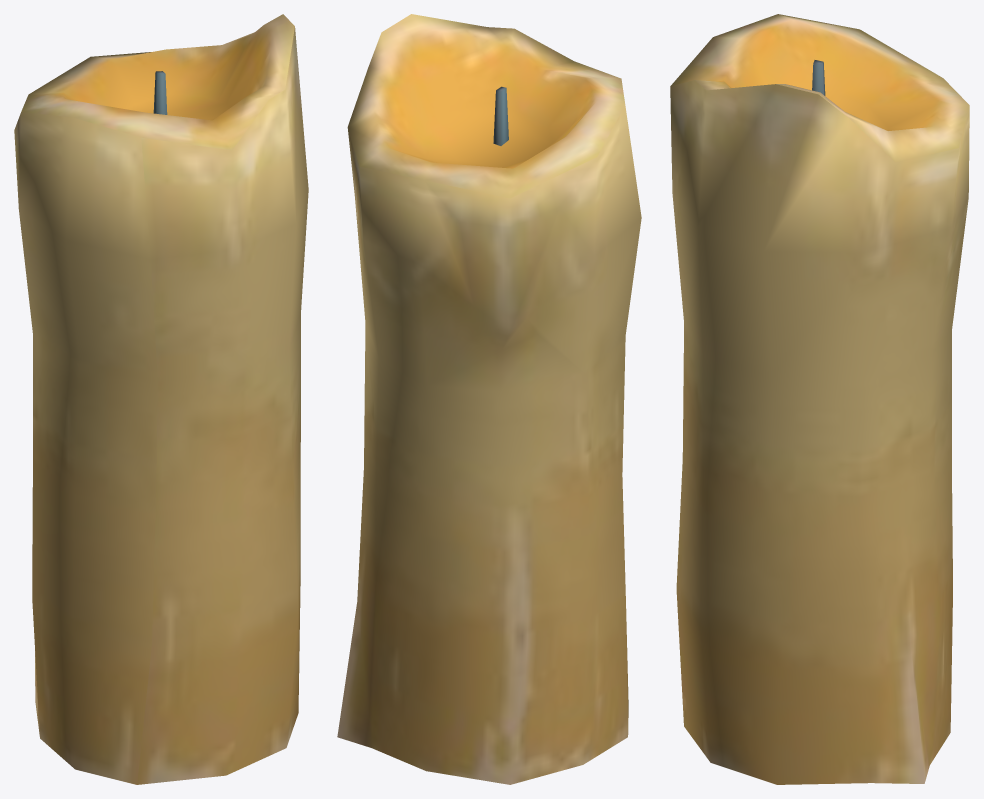
The model's file is tr_candle_tall.glb.
The picture shows the model from 3 angles, left to right: view 1: azimuth 30°, elevation 25°; view 2: azimuth 150°, elevation 25°; view 3: azimuth 270°, elevation 25°; orthographic projection. The views are drawn at different scales.
Parts seen in each view (by area): view 1: model; view 2: model; view 3: model.
Part boxes in pixels (left/top/right/bottom): model: left=14, top=14, right=308, bottom=784; model: left=337, top=14, right=641, bottom=784; model: left=670, top=14, right=969, bottom=784.
Size of the model in its own units: 0.0944 by 0.2511 by 0.0975.
Materials: 1 (1 with a texture image).
